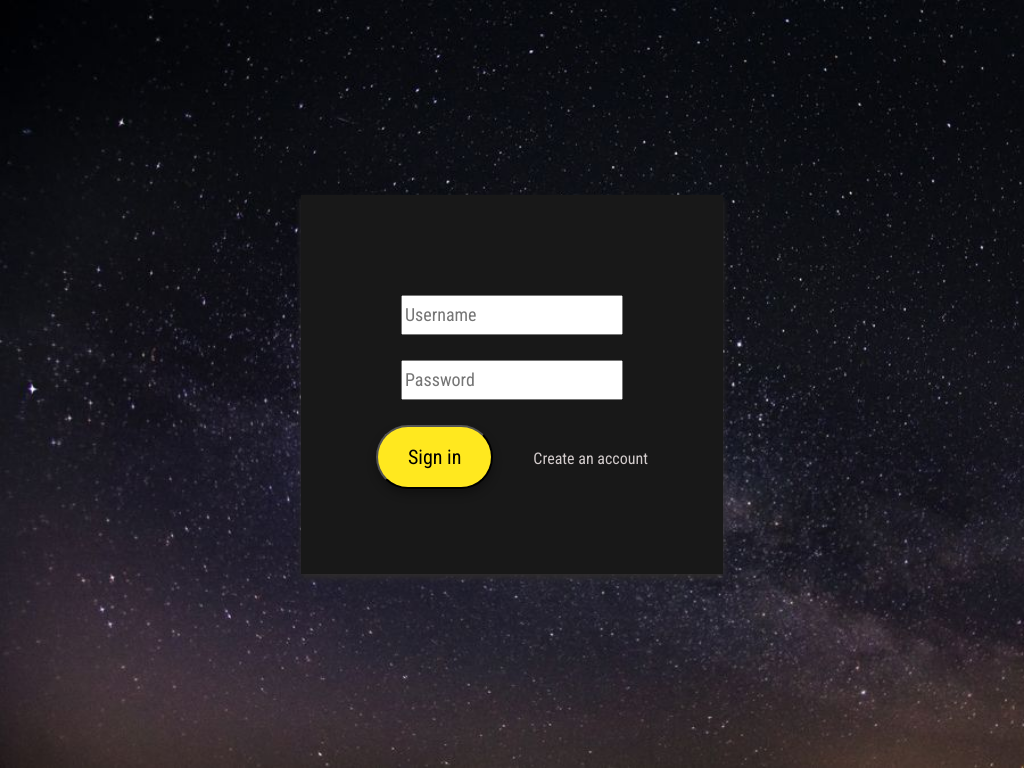
Test case: tests the submit
The image size is (1024, 768).
Type "test" into the field with placeholder "Username" at (512, 314), box top-left (401, 294), bottom-right (623, 334)
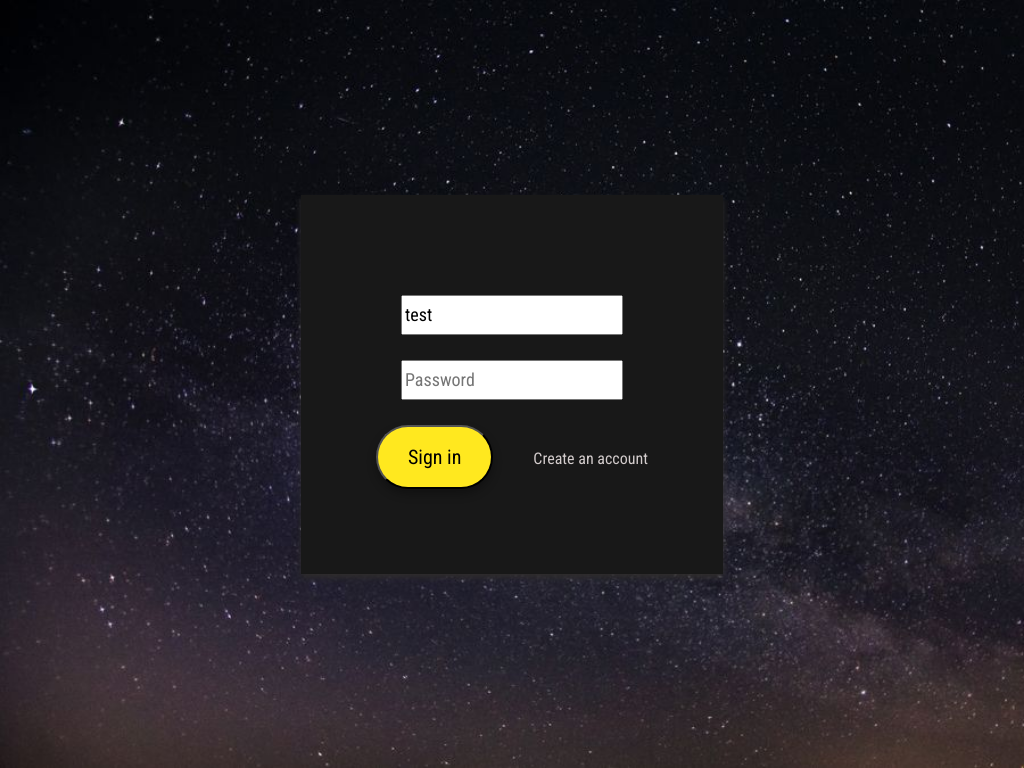
Type "test" into the password field with placeholder "Password" at (512, 380), box top-left (401, 360), bottom-right (623, 400)
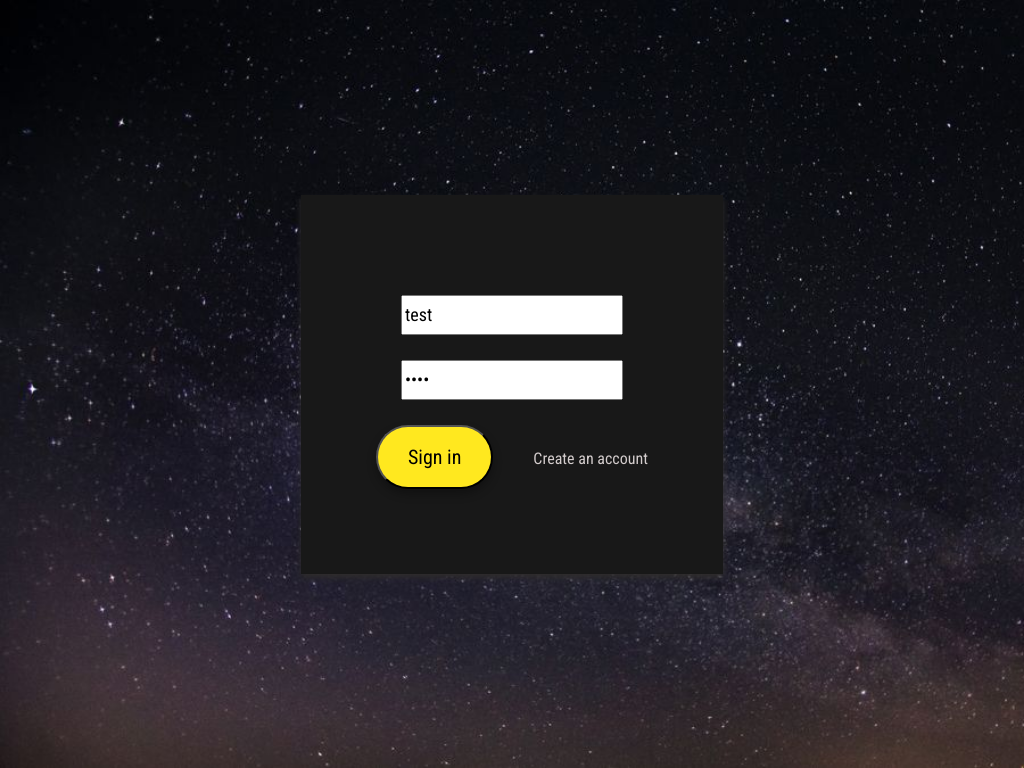
Click the button "Sign in" at (435, 456), box top-left (376, 424), bottom-right (493, 488)
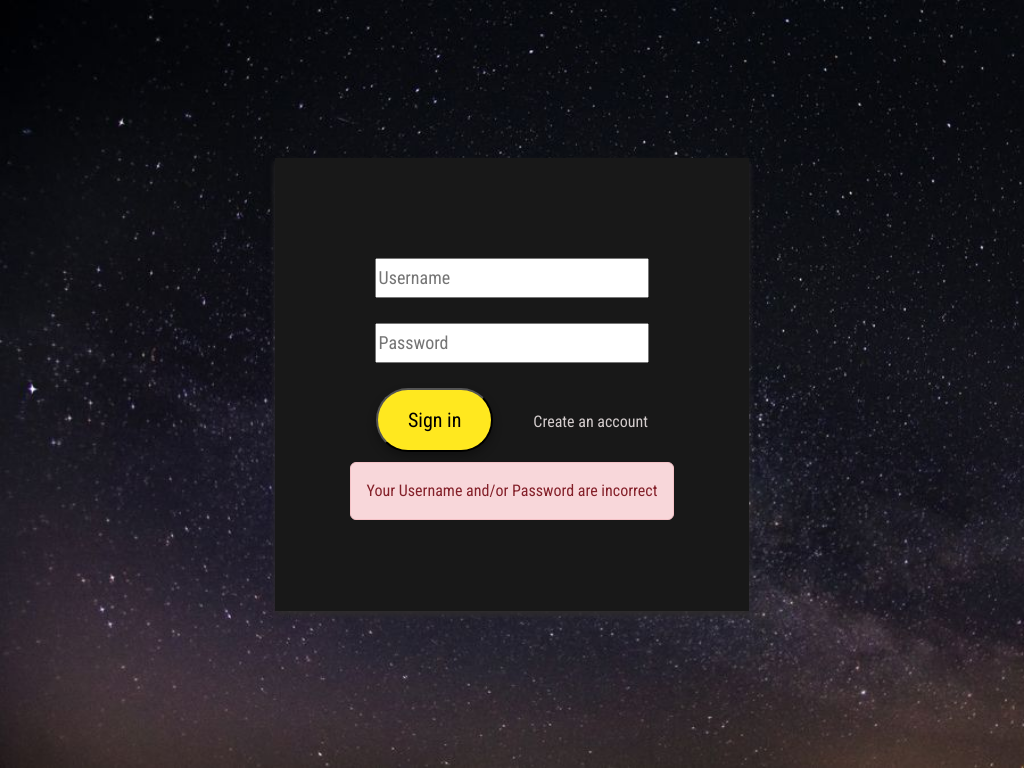
Check: the text "Your Username and/or Password are incorrect" is shown, box top-left (350, 462), bottom-right (674, 520)
